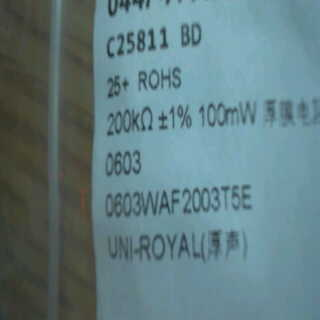200kR: (105, 106, 157, 139)
